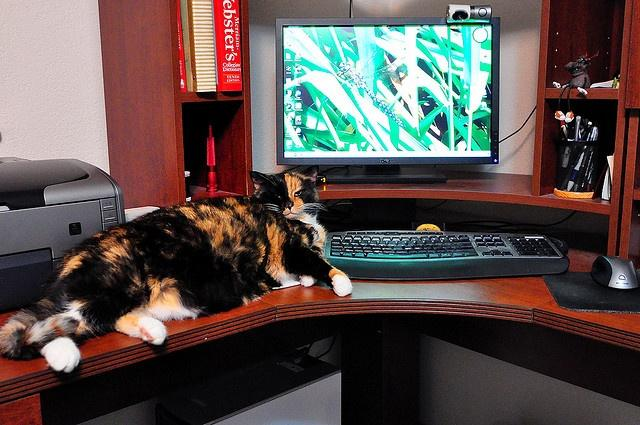AIO PC-Monitor-TV: (272, 15, 501, 183)
Printer: (0, 158, 127, 311)
